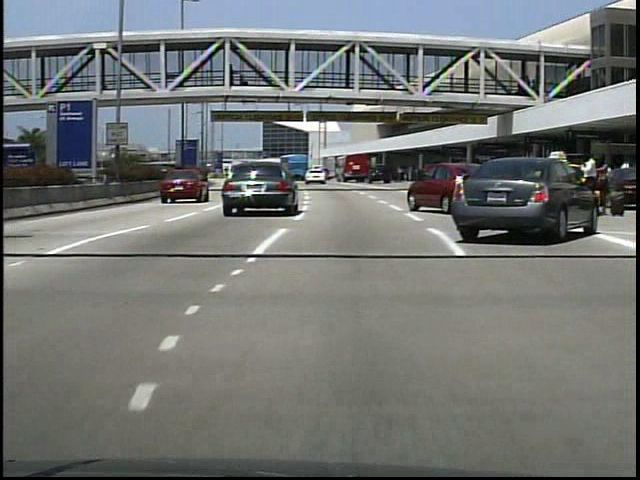person: (222, 62, 236, 89)
